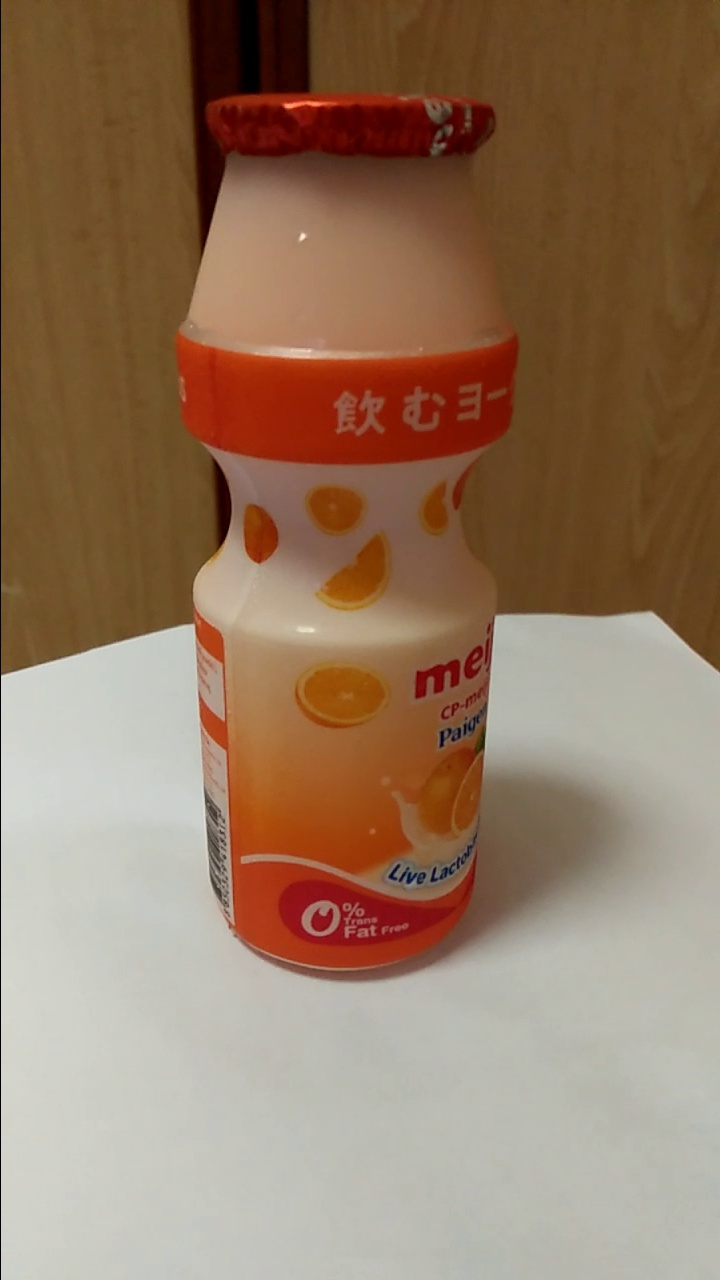milk: (192, 96, 486, 976)
